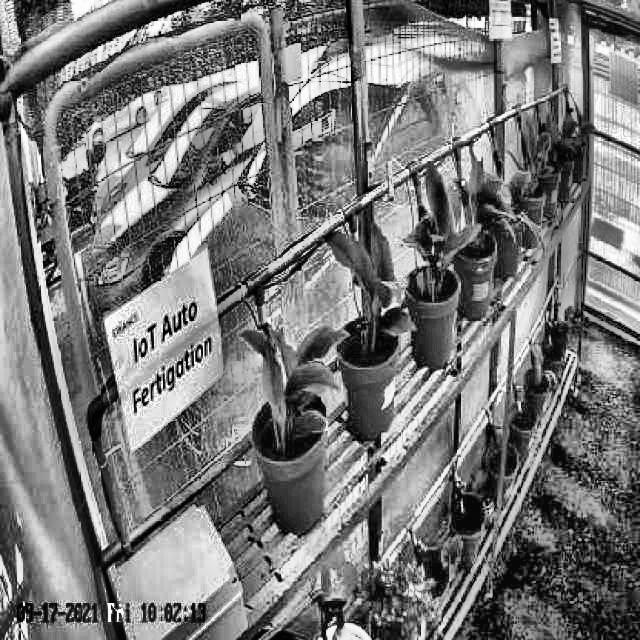plants: (240, 326, 348, 434), (321, 227, 417, 336), (403, 162, 474, 284), (464, 143, 518, 251)
